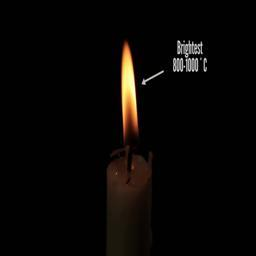fire: (120, 44, 138, 137)
